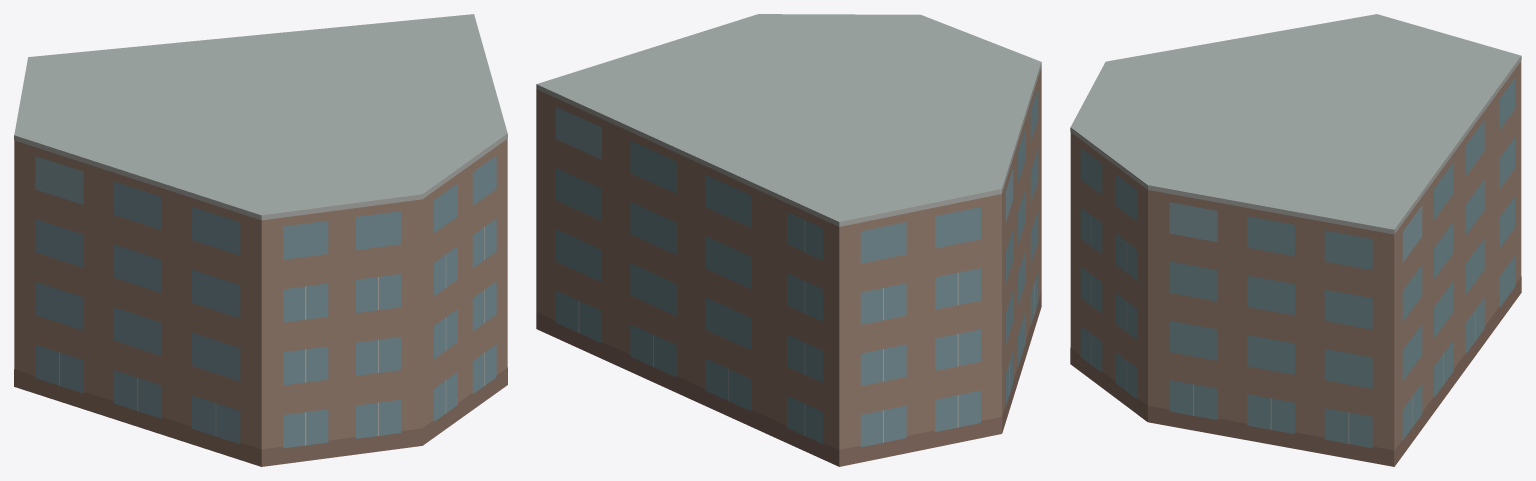
Rendered from residential-0dd128a8-64cd-4932-8e1c-dcb7c5261b0d.glb.
3 renders of one model, left to right at view 1: azimuth 30°, elevation 25°; view 2: azimuth 150°, elevation 25°; view 3: azimuth 270°, elevation 25°, orthographic. The views are drawn at different scales.
Visible parts, largest first — view 1: residential-0dd128a8-64cd-4932-8e1c-dcb7c5261b0d.tmp; view 2: residential-0dd128a8-64cd-4932-8e1c-dcb7c5261b0d.tmp; view 3: residential-0dd128a8-64cd-4932-8e1c-dcb7c5261b0d.tmp.
Boxes of the visible parts, x1,y1,x2,y2 form: residential-0dd128a8-64cd-4932-8e1c-dcb7c5261b0d.tmp: [14, 14, 507, 466]; residential-0dd128a8-64cd-4932-8e1c-dcb7c5261b0d.tmp: [536, 14, 1041, 466]; residential-0dd128a8-64cd-4932-8e1c-dcb7c5261b0d.tmp: [1070, 14, 1521, 466].
Bounding box in the file's own units: 23.82 × 12.2 × 21.04.
